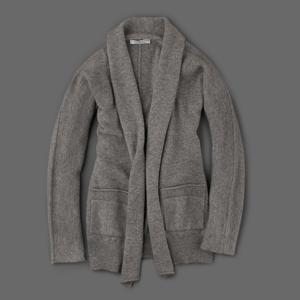S_cardigan sweater: (42, 21, 250, 278)
